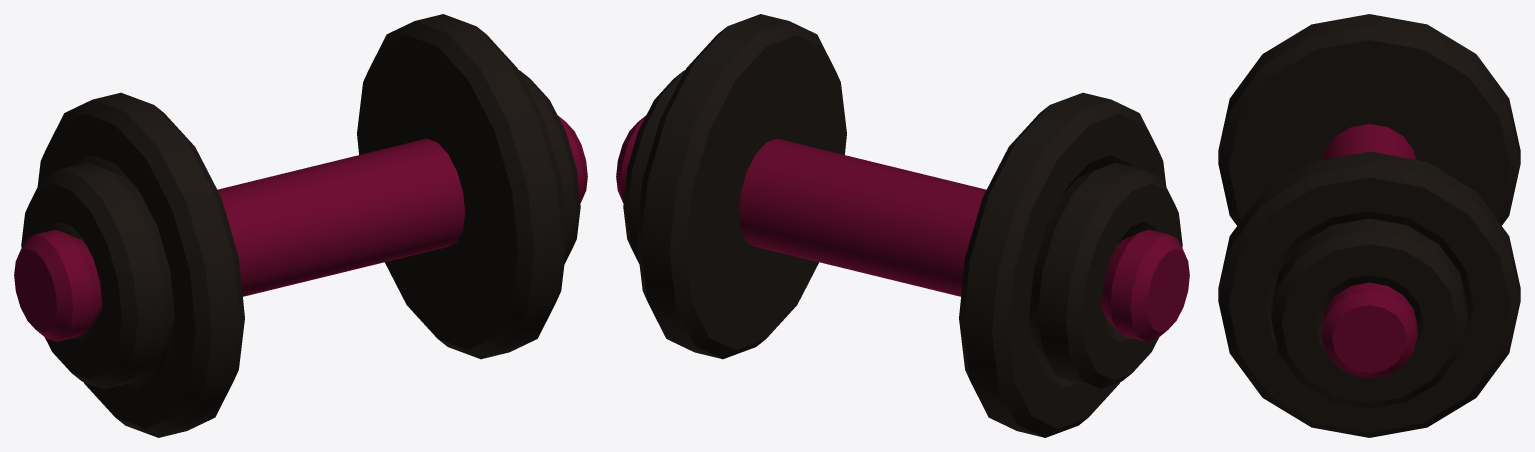
The model's file is Dumbbell-1.FBX.
3 views of the same model, side by side, from view 1: azimuth 30°, elevation 25°; view 2: azimuth 150°, elevation 25°; view 3: azimuth 270°, elevation 25° (orthographic). The views are drawn at different scales.
Parts seen in each view (by area): view 1: Dumbbell-1; view 2: Dumbbell-1; view 3: Dumbbell-1.
Boxes of the visible parts, x1,y1,x2,y2 form: Dumbbell-1: (14,14,587,437); Dumbbell-1: (616,14,1189,437); Dumbbell-1: (1218,14,1520,437).
Bounding box in the file's own units: 997 × 563 × 563.
